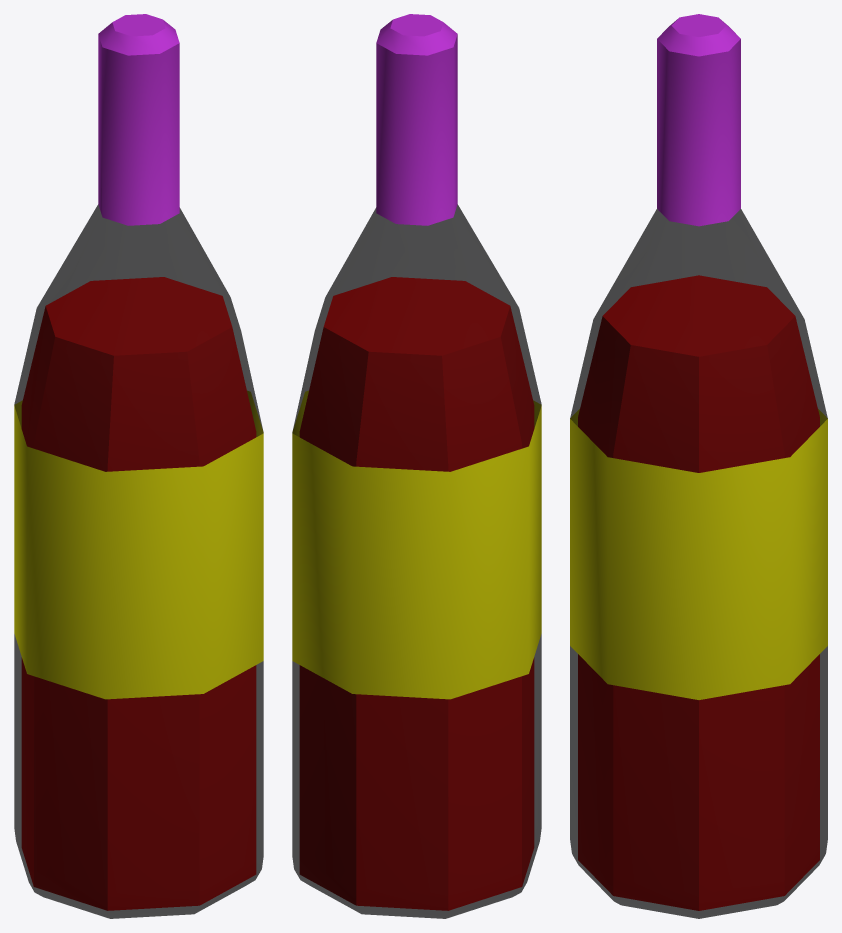
File: WineBottle.fbx
The picture shows the model from 3 angles, left to right: view 1: azimuth 30°, elevation 25°; view 2: azimuth 150°, elevation 25°; view 3: azimuth 270°, elevation 25°; orthographic projection.
Parts seen in each view (by area): view 1: Lathe, Cylinder; view 2: Lathe, Cylinder; view 3: Lathe, Cylinder.
Boxes of the visible parts, left/top/right/bottom form: Lathe: left=14, top=14, right=263, bottom=918; Cylinder: left=21, top=277, right=256, bottom=910; Lathe: left=292, top=14, right=541, bottom=918; Cylinder: left=299, top=277, right=534, bottom=910; Lathe: left=570, top=14, right=827, bottom=918; Cylinder: left=578, top=275, right=819, bottom=910.
Bounding box in the file's own units: 6.39 × 23.24 × 6.39.
